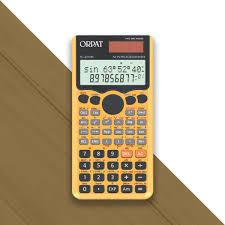Calculator: (67, 29, 160, 204)
